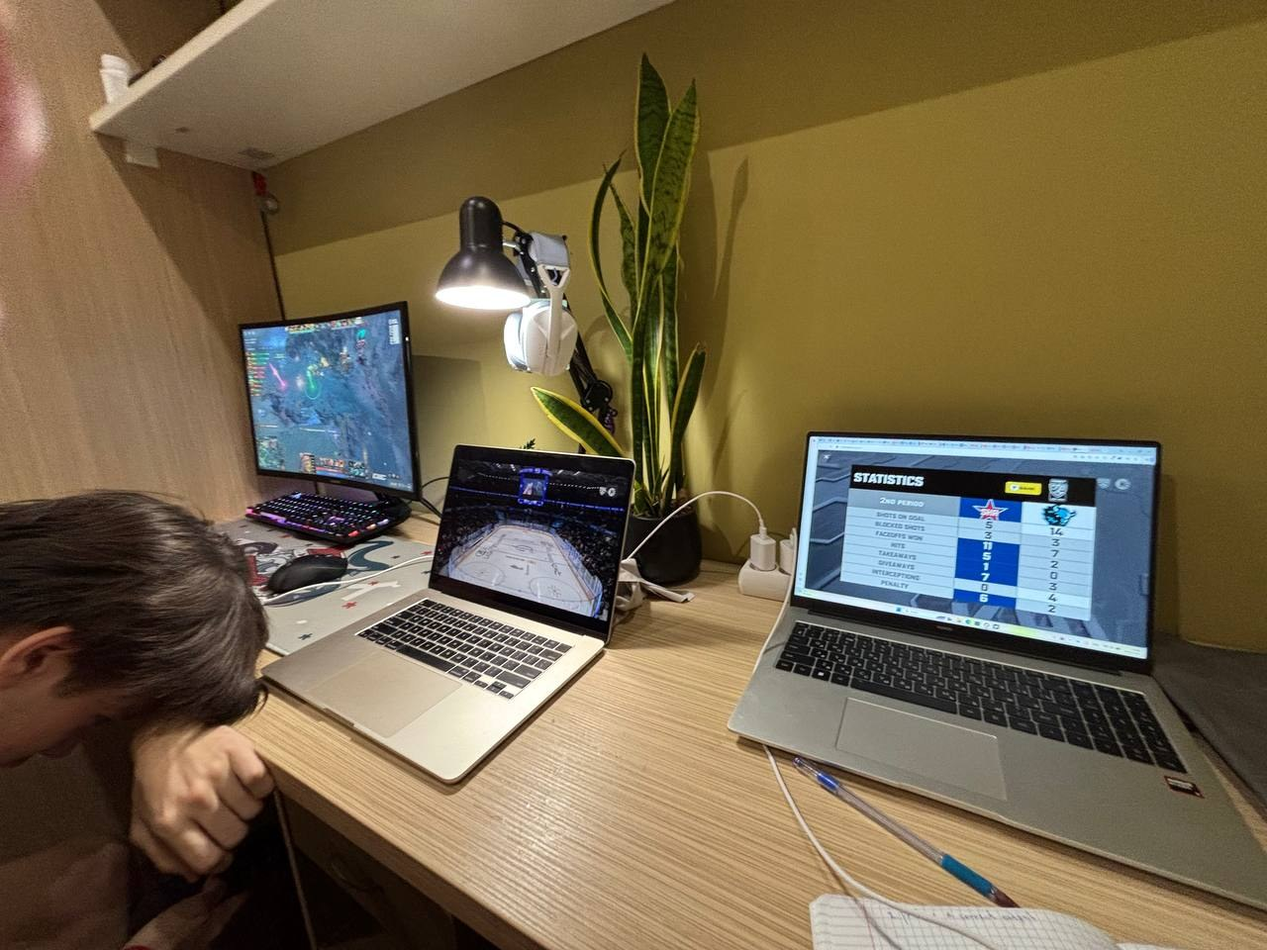laptop: (727, 429, 1266, 913), (260, 443, 636, 785)
